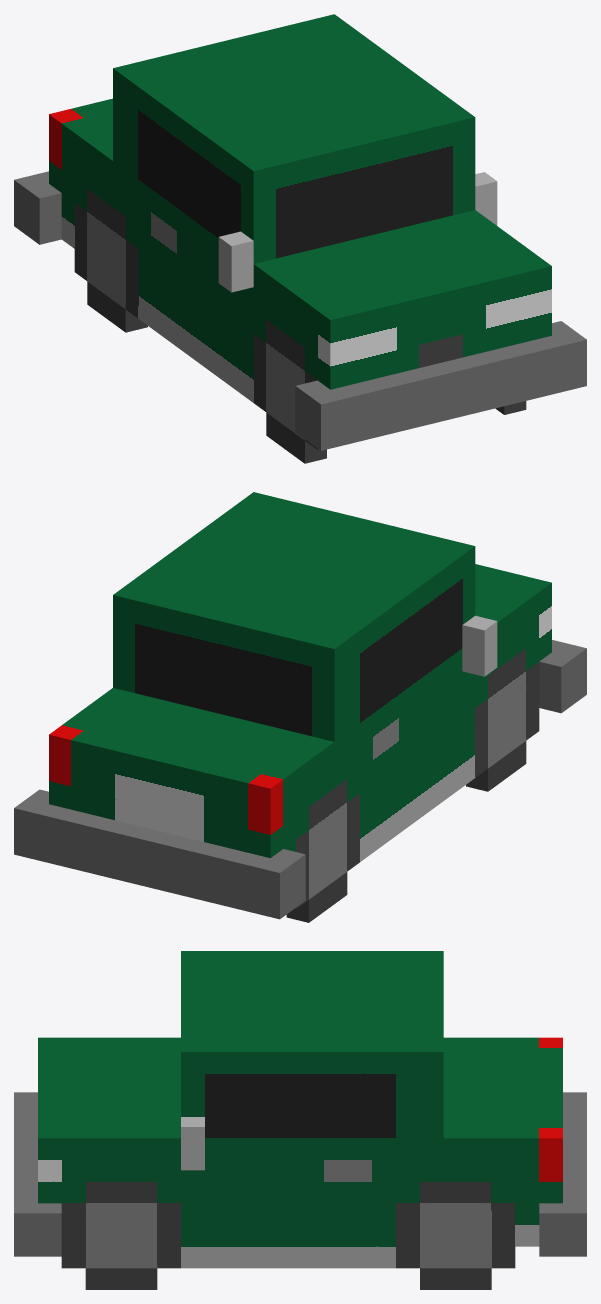
File: veh_mini4.dae
The picture shows the model from 3 angles, top to bottom: view 1: azimuth 30°, elevation 25°; view 2: azimuth 150°, elevation 25°; view 3: azimuth 270°, elevation 25°; orthographic projection. The views are drawn at different scales.
Visible parts, largest first — view 1: veh_mini4; view 2: veh_mini4; view 3: veh_mini4.
Boxes of the visible parts, <box> form: veh_mini4: <box>14,14,586,463</box>; veh_mini4: <box>14,492,586,922</box>; veh_mini4: <box>14,951,586,1289</box>.
Bounding box in the file's own units: 1.2 × 2.4 × 1.1.
Materials: 1 (1 with a texture image).
